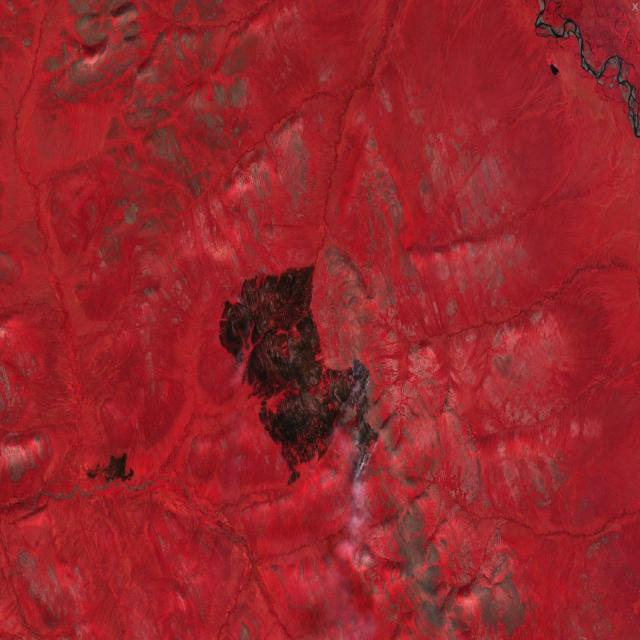fire: (341, 352, 386, 486)
